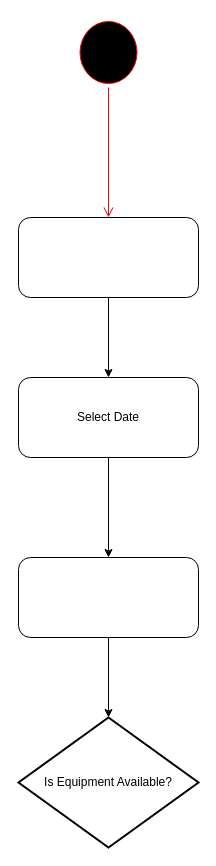
Image size: 216x866. Some labels were removed from this diagram. The box of each missing label's shape, as (x1, y1, x2, y2) in pixels:
Check Availability: (18, 556, 198, 638)
Select Equipment: (18, 216, 198, 298)
